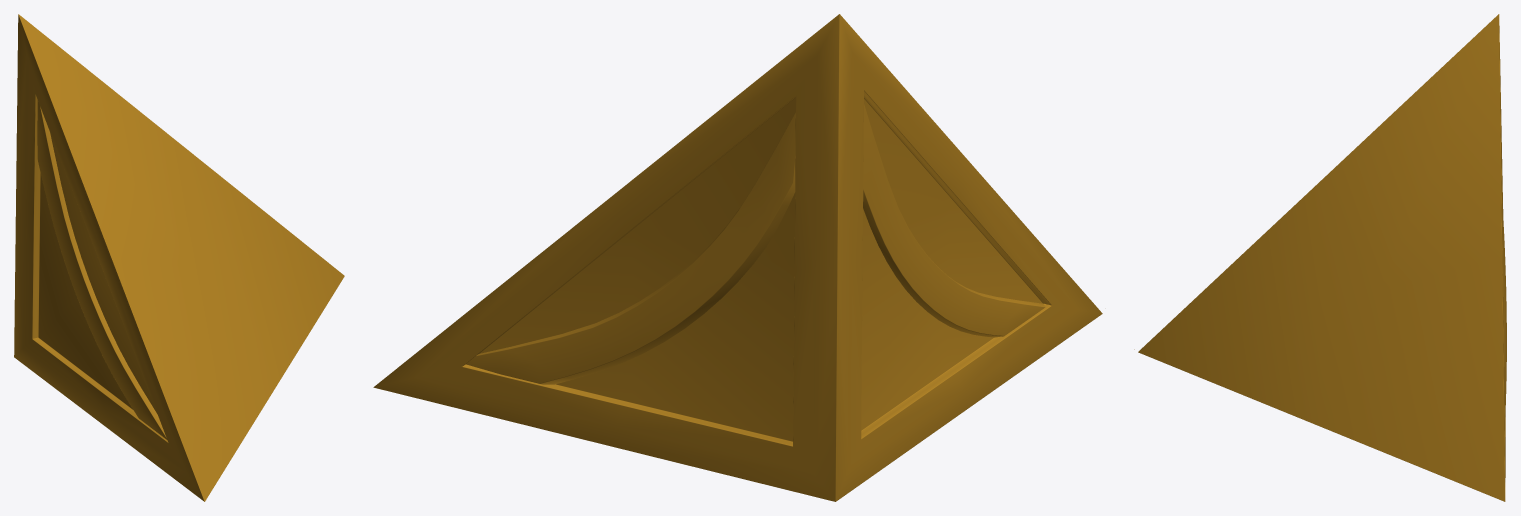
Rendered from Holocron_Esquina_01.obj.
3 views of the same model, side by side, from view 1: azimuth 30°, elevation 25°; view 2: azimuth 150°, elevation 25°; view 3: azimuth 270°, elevation 25° (orthographic). The views are drawn at different scales.
Parts seen in each view (by area): view 1: Holocron_Esquina_01; view 2: Holocron_Esquina_01; view 3: Holocron_Esquina_01.
Boxes of the visible parts, <box> form: Holocron_Esquina_01: <box>14,14,344,501</box>; Holocron_Esquina_01: <box>373,14,1102,501</box>; Holocron_Esquina_01: <box>1134,14,1506,501</box>.
Bounding box in the file's own units: 5.14 × 5.22 × 5.21.
